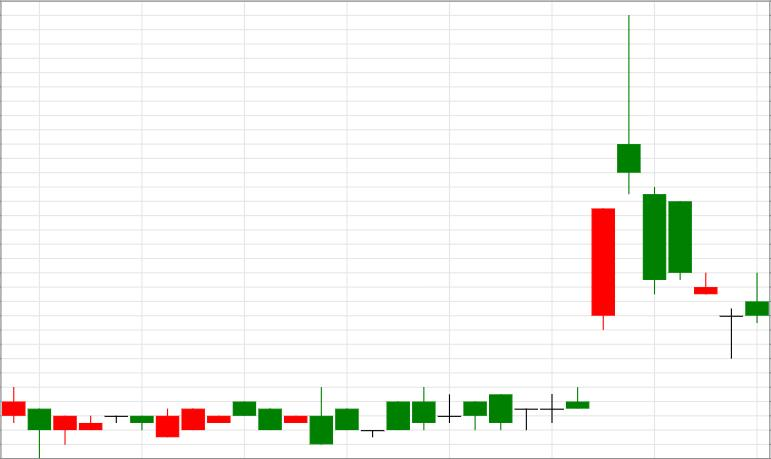evening_star_fall: (515, 16, 666, 430)
